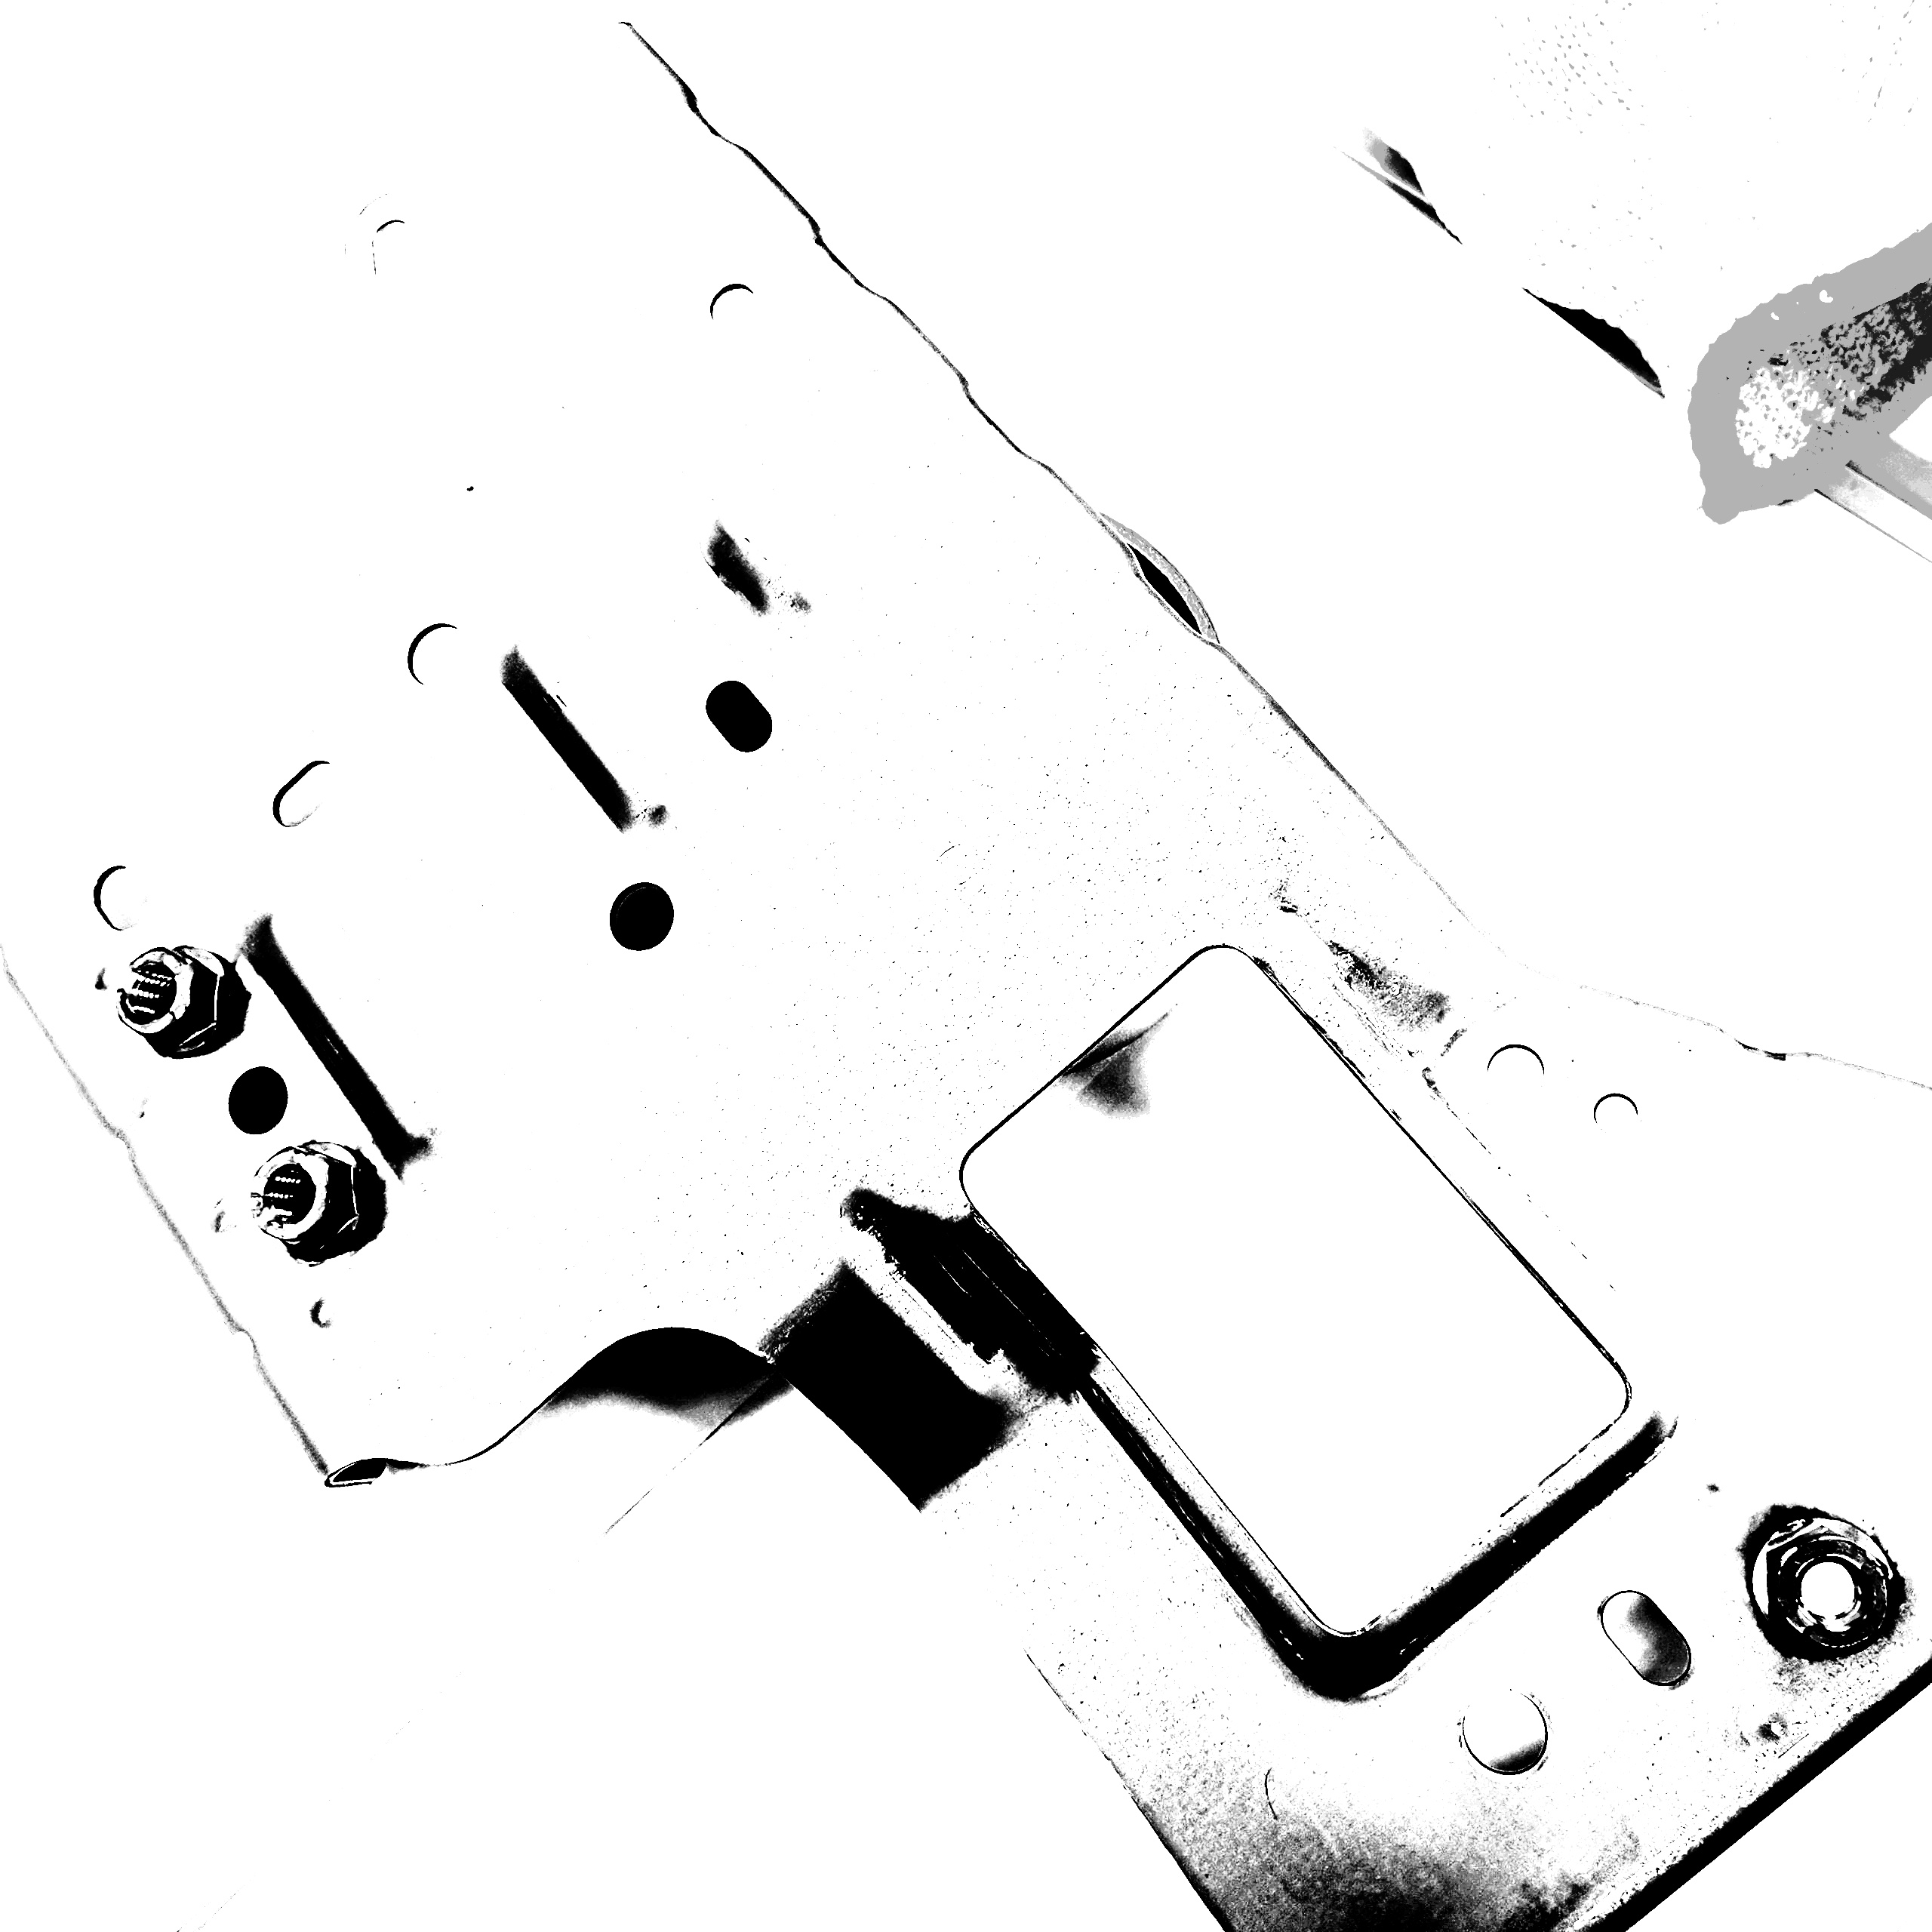dog: (1739, 1504, 1905, 1665), (241, 1129, 380, 1270), (108, 936, 253, 1063)
